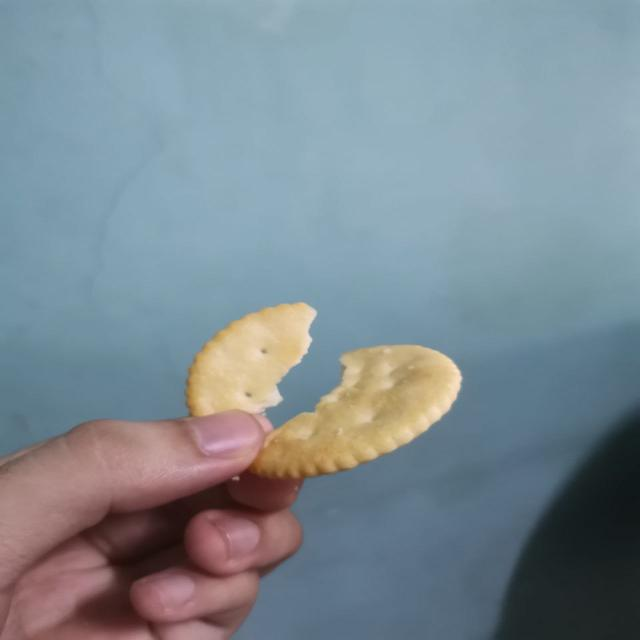broken biscuit: (245, 333, 490, 489), (177, 292, 319, 439)
